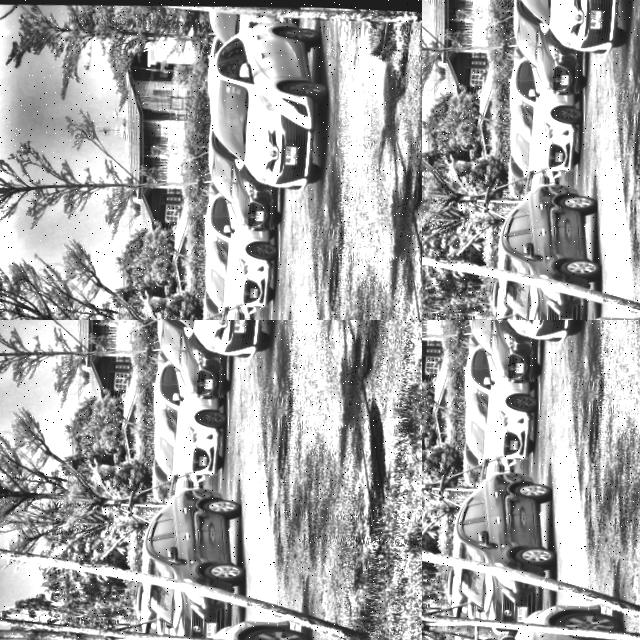license-plate: (518, 603, 531, 619), (514, 358, 525, 371), (511, 436, 521, 448)
